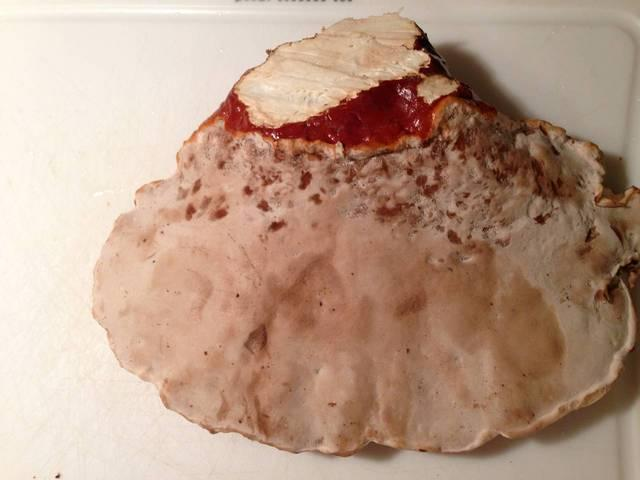poisonous_mushroom: (89, 10, 638, 457)
